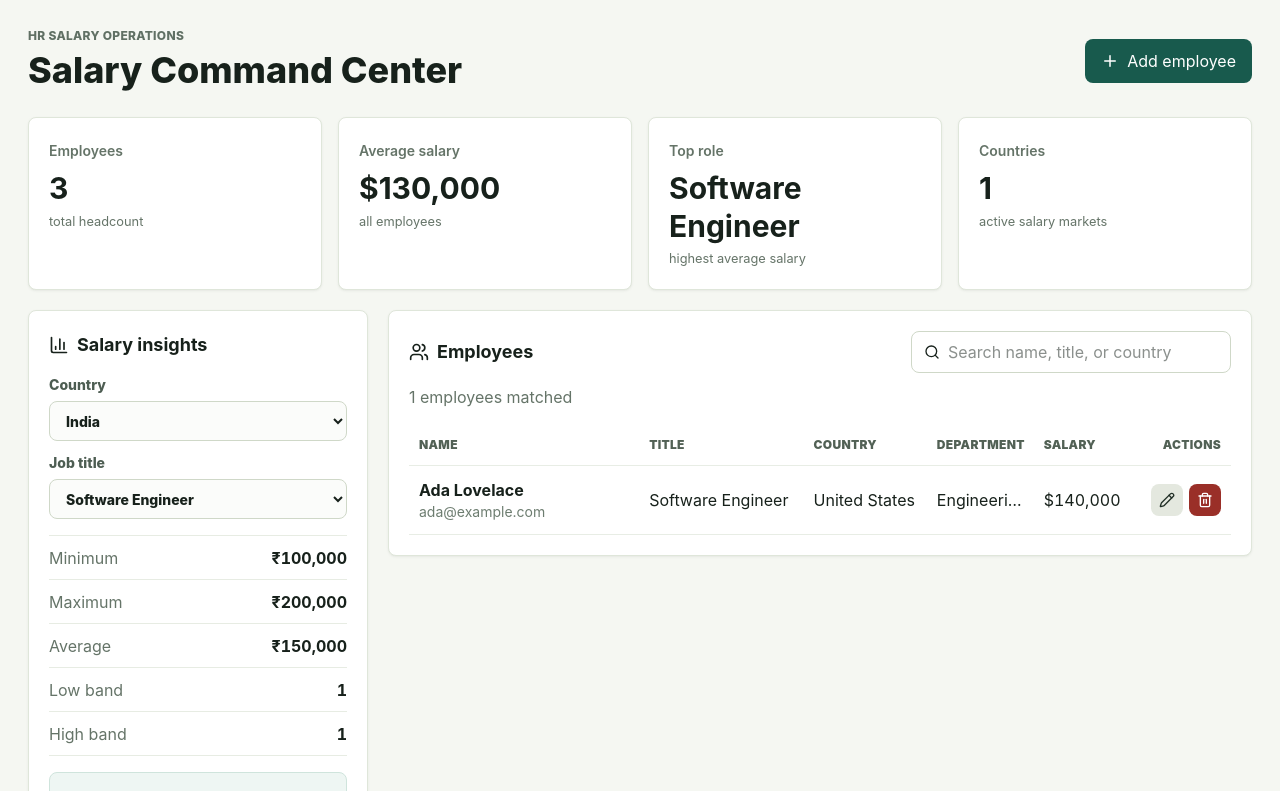
Scenario: SalaryCommandCenter › shows API validation errors inside the employee form
This screenshot has width=1280, height=791.
Click the button "Add employee" at point(1169, 60), box [1085,38,1252,82]
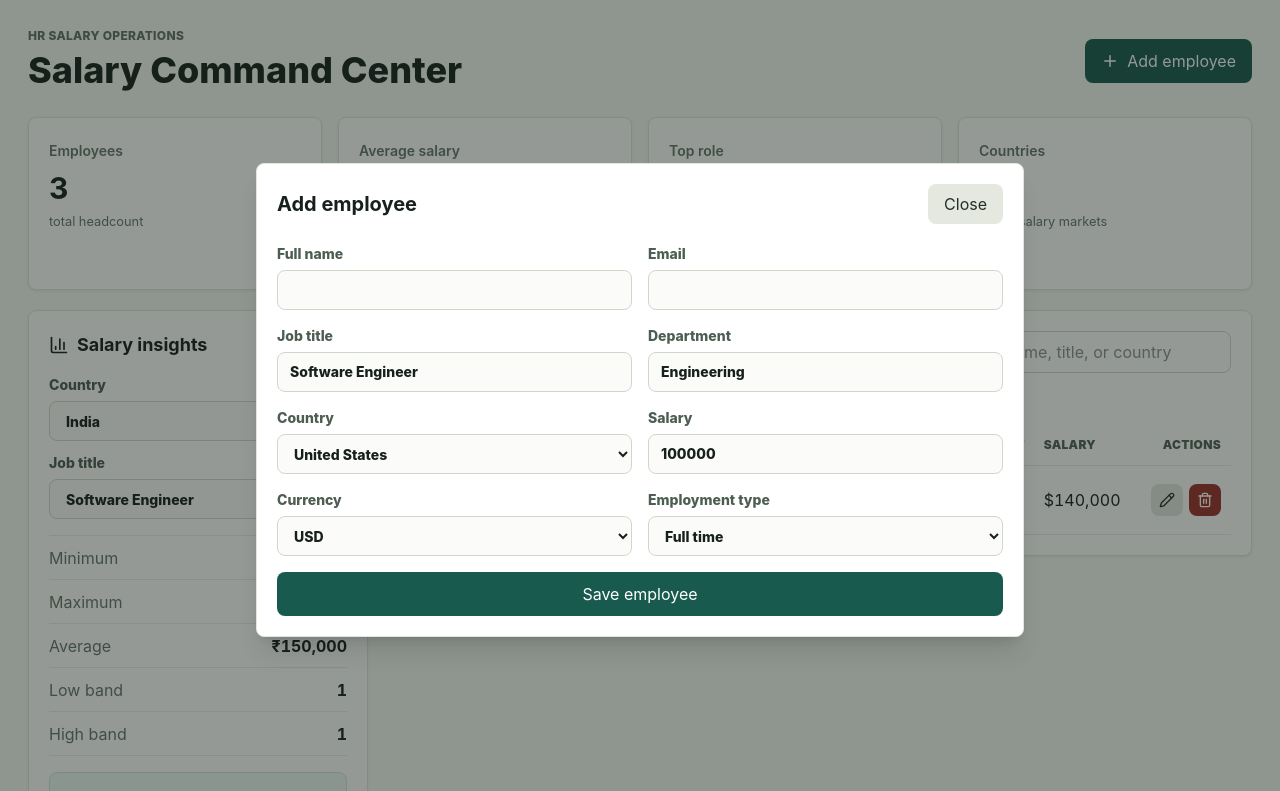
Type "Ada Lovelace" into the field labelled "Full name" at point(454, 290), box [277,270,632,310]
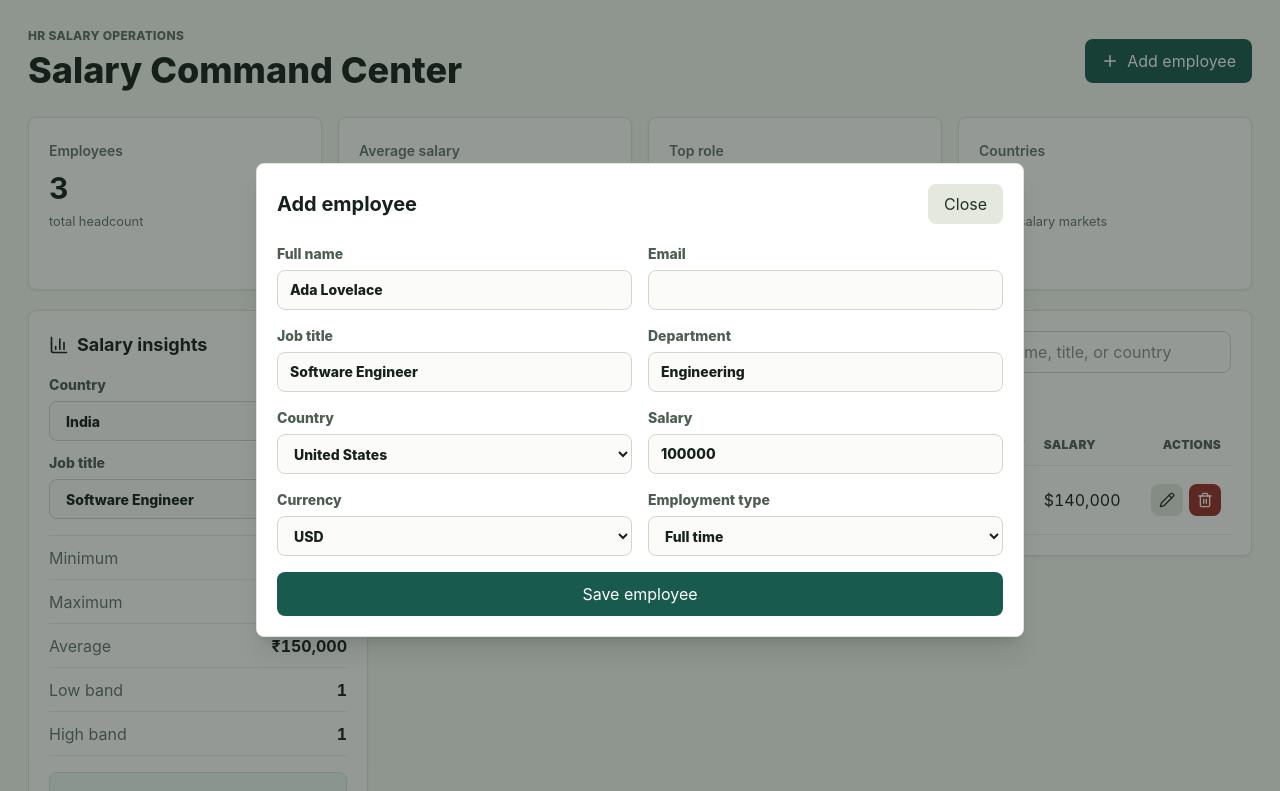
Type "ada@example.com" into the field labelled "Email" at point(826, 290), box [648,270,1003,310]
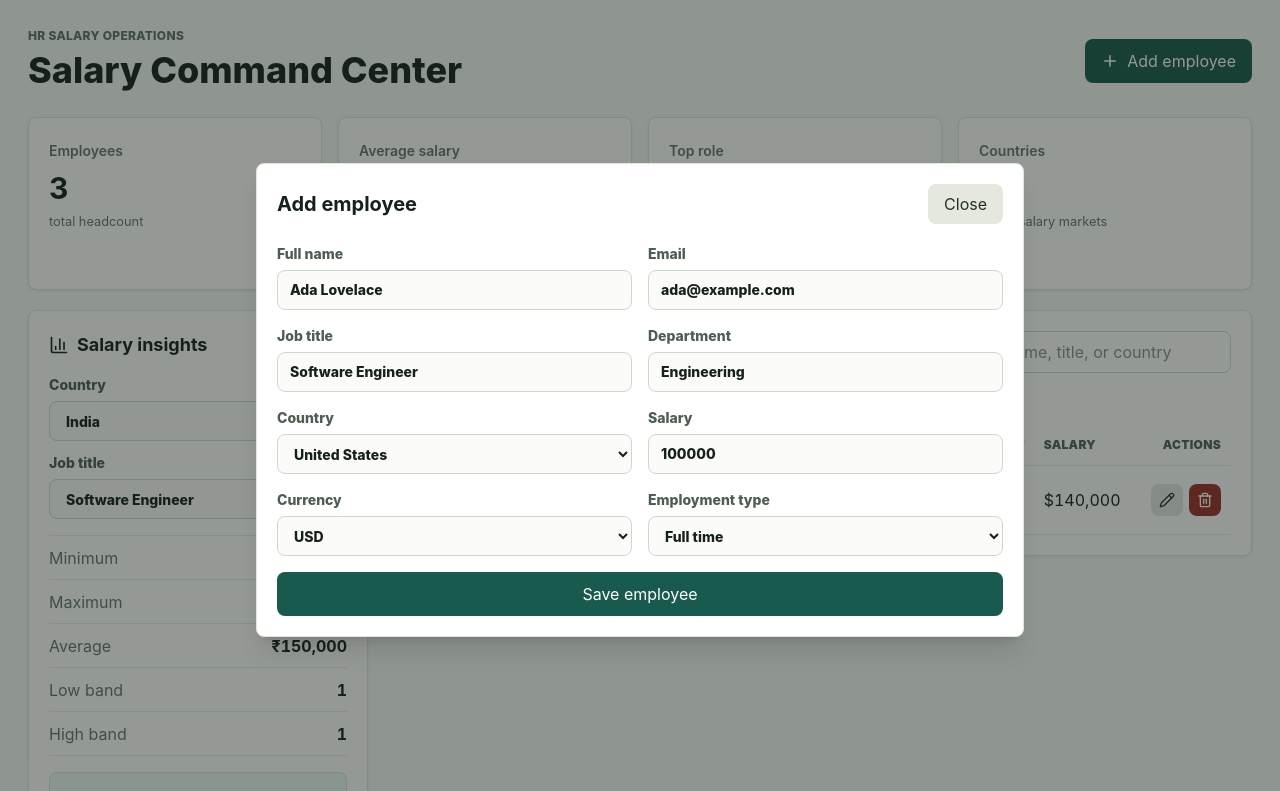
Click the button "Save employee" at point(640, 594), box [277,572,1003,616]
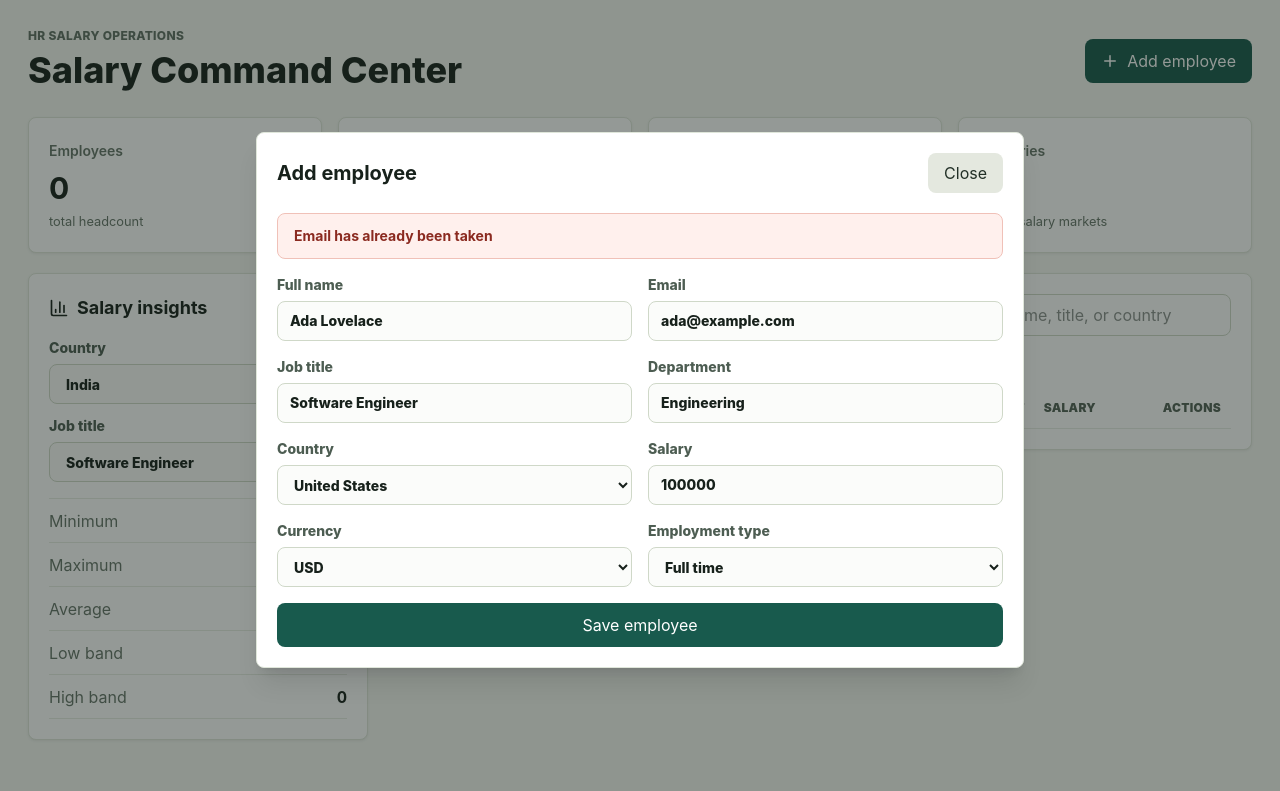
expect the text "Email has already been taken" is shown: met, box [277,213,1003,259]
